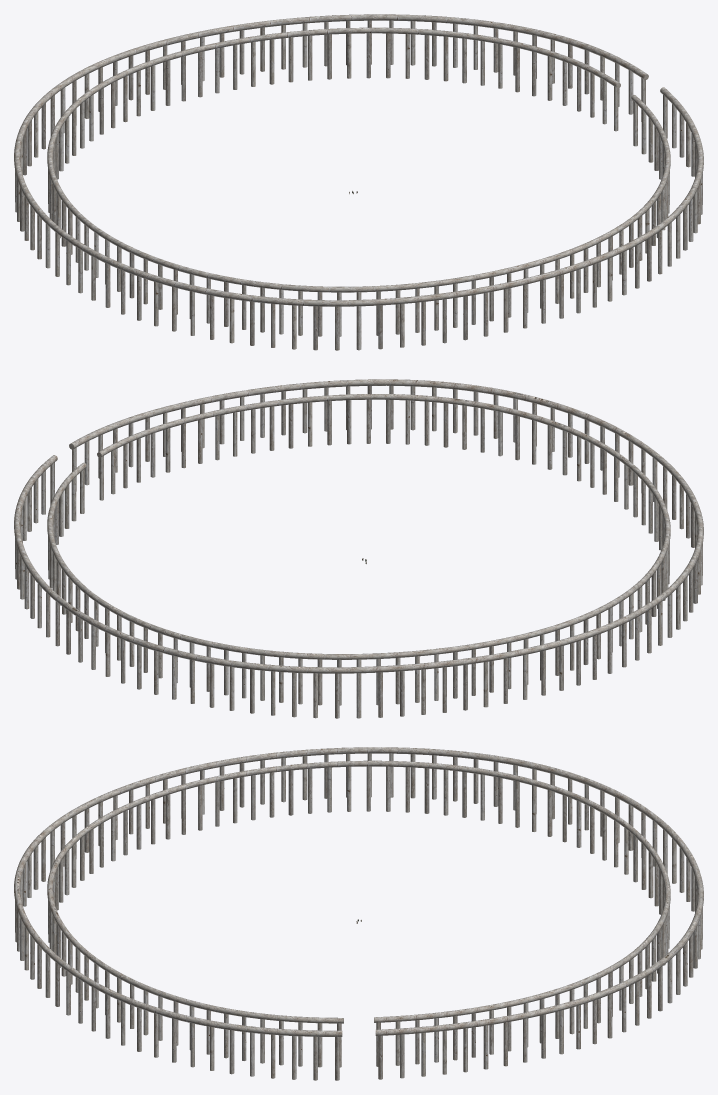
3 renders of one model, top to bottom at view 1: azimuth 30°, elevation 25°; view 2: azimuth 150°, elevation 25°; view 3: azimuth 270°, elevation 25°, orthographic.
Parts seen in each view (by area): view 1: Cylinder079; view 2: Cylinder079; view 3: Cylinder079.
Part boxes in pixels (x1=…): Cylinder079: x1=14, y1=14, x2=703, y2=350; Cylinder079: x1=14, y1=379, x2=703, y2=718; Cylinder079: x1=14, y1=747, x2=703, y2=1080.
Bounding box in the file's own units: 502 × 46.32 × 502.
Materials: 5 (5 with a texture image).
